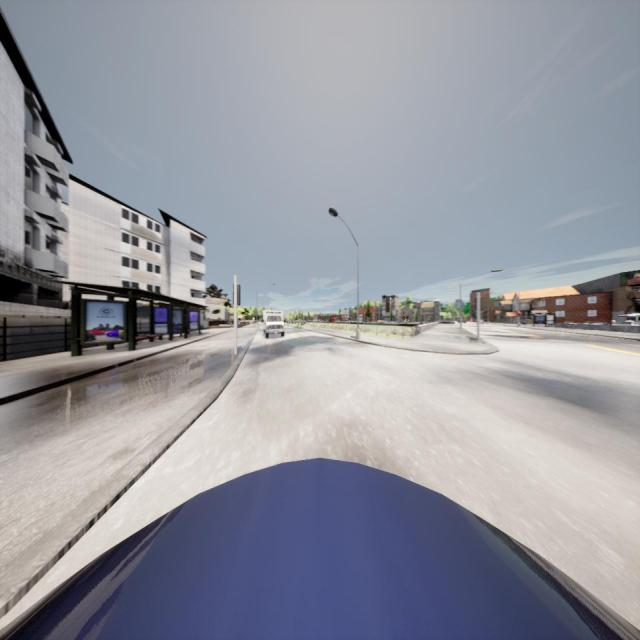Vehicle: (0, 457, 640, 640), (263, 310, 284, 337)
traffic_light: (232, 283, 240, 305), (475, 297, 482, 310), (517, 311, 521, 317)
